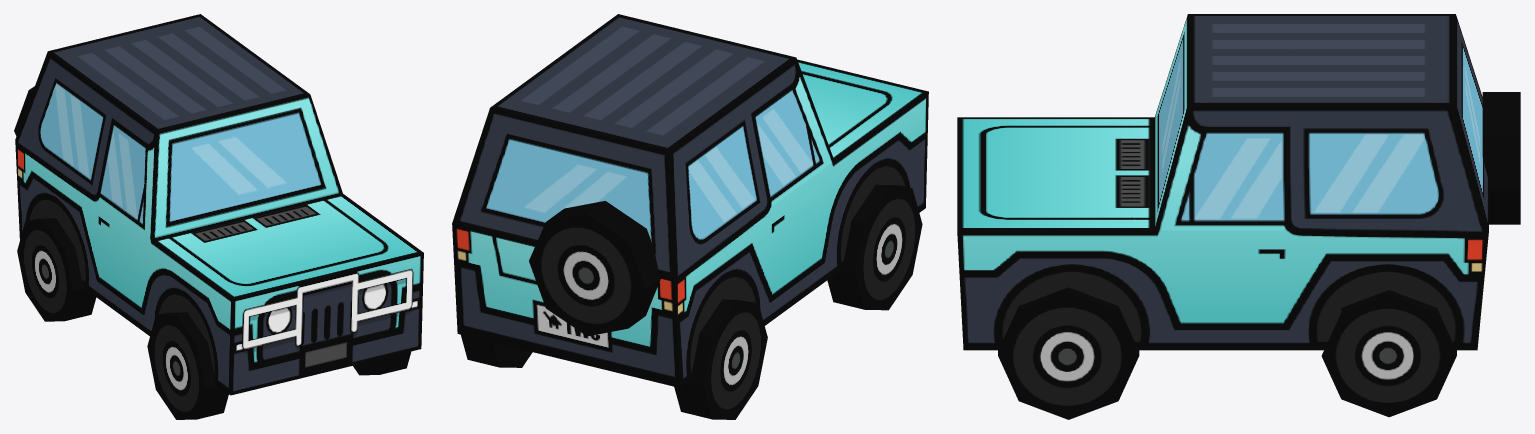
File: car5_5.gltf
3 views of the same model, side by side, from view 1: azimuth 30°, elevation 25°; view 2: azimuth 150°, elevation 25°; view 3: azimuth 270°, elevation 25° (orthographic). The views are drawn at different scales.
Visible parts, largest first — view 1: Cylinder.002; view 2: Cylinder.002; view 3: Cylinder.002.
Boxes of the visible parts, <box> form: Cylinder.002: <box>14,14,423,419</box>; Cylinder.002: <box>452,14,928,419</box>; Cylinder.002: <box>957,14,1520,419</box>.
Size of the model in its own units: 2.79 by 3.11 by 5.31.
Materials: 1 (1 with a texture image).
